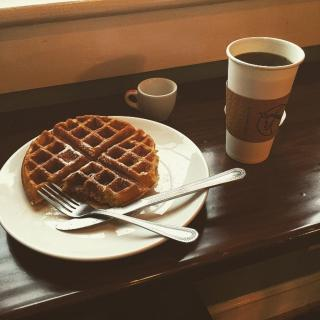Waffle: (19, 112, 158, 207)
